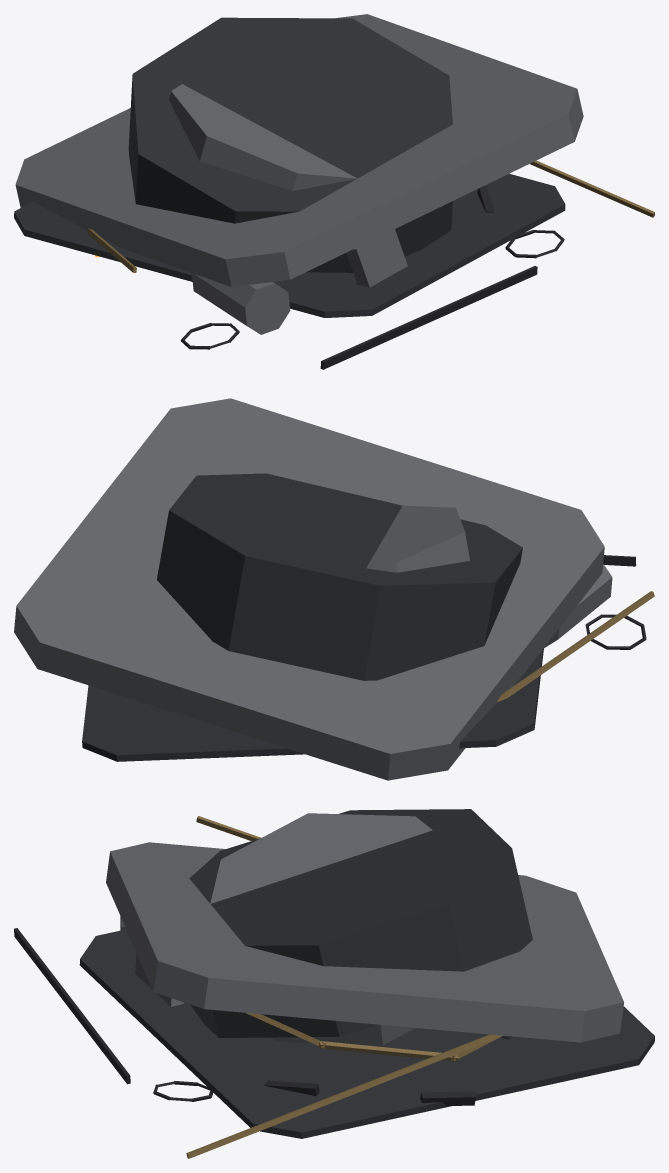
The model's file is Wreck_Aegis_ResearchLab.fbx.
3 views of the same model, one above another, from view 1: azimuth 30°, elevation 25°; view 2: azimuth 150°, elevation 25°; view 3: azimuth 270°, elevation 25° (orthographic). The views are drawn at different scales.
Parts seen in each view (by area): view 1: Wreck_Aegis_ResearchLab; view 2: Wreck_Aegis_ResearchLab; view 3: Wreck_Aegis_ResearchLab.
Part boxes in pixels (x1,y1,x2,y2): Wreck_Aegis_ResearchLab: (14,14,654,369); Wreck_Aegis_ResearchLab: (14,398,654,780); Wreck_Aegis_ResearchLab: (14,809,654,1158).
Size of the model in its own units: 3.48 by 1.03 by 3.52.
